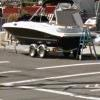Boat: (0, 7, 93, 58)
